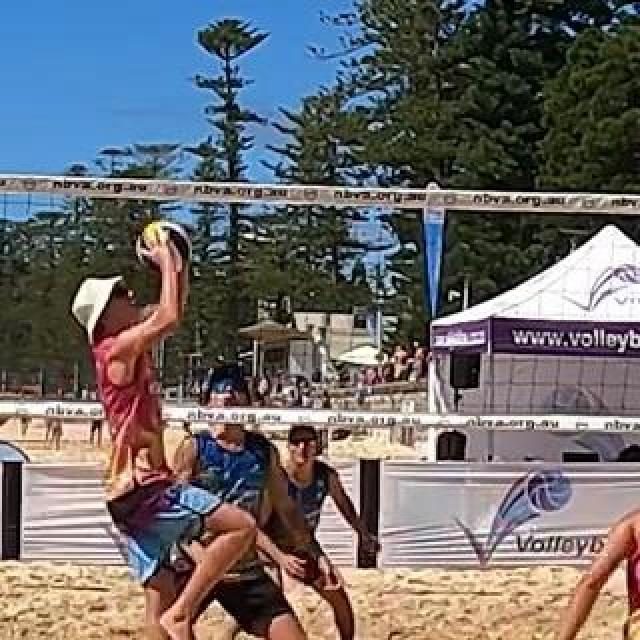volleyball: (136, 220, 192, 274)
